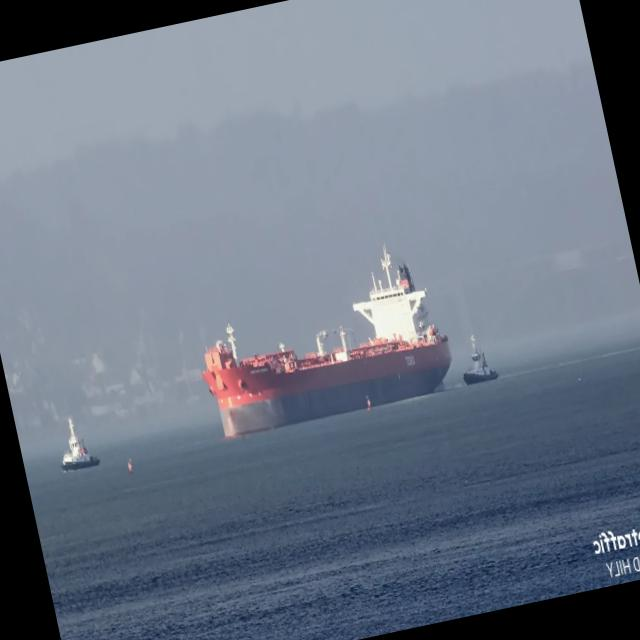Tanker: (201, 249, 451, 438)
Tug: (62, 417, 99, 470), (463, 334, 498, 384)
